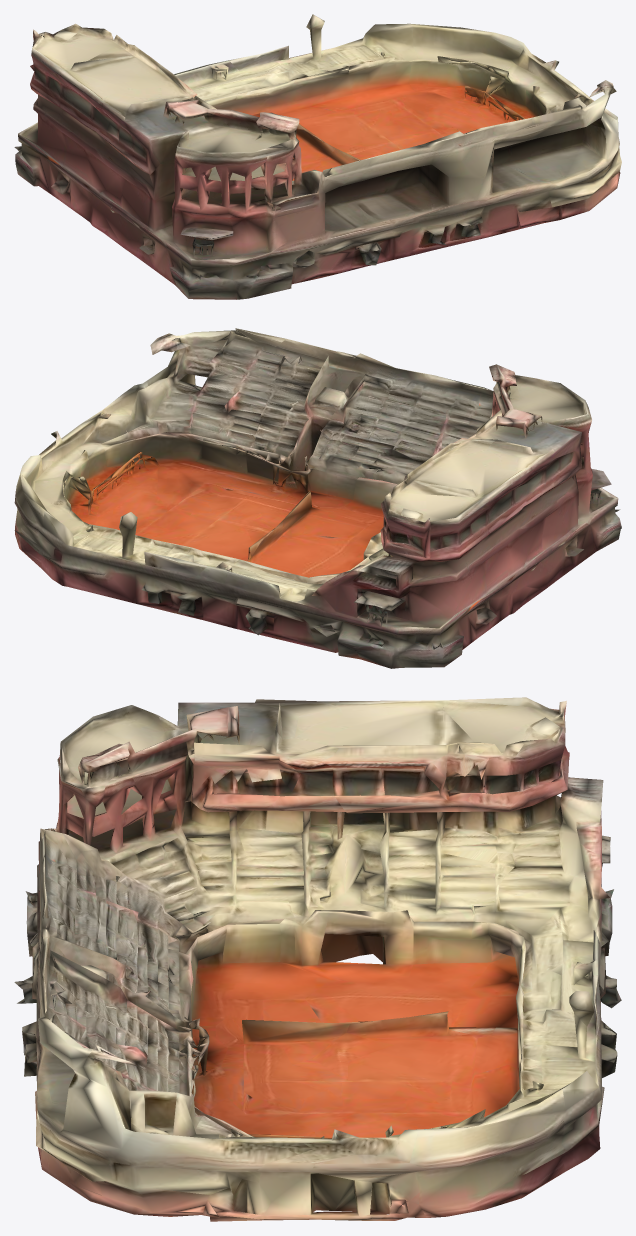
File: stadion_mc.glb
The picture shows the model from 3 angles, top to bottom: view 1: azimuth 30°, elevation 25°; view 2: azimuth 150°, elevation 25°; view 3: azimuth 270°, elevation 25°; orthographic projection. The views are drawn at different scales.
Visible parts, largest first — view 1: tripo_node_828d1bdc-1c1c-42e5-92ac-96555dc80fae; view 2: tripo_node_828d1bdc-1c1c-42e5-92ac-96555dc80fae; view 3: tripo_node_828d1bdc-1c1c-42e5-92ac-96555dc80fae.
Boxes of the visible parts, x1,y1,x2,y2 form: tripo_node_828d1bdc-1c1c-42e5-92ac-96555dc80fae: (14,14,621,299); tripo_node_828d1bdc-1c1c-42e5-92ac-96555dc80fae: (14,328,621,668); tripo_node_828d1bdc-1c1c-42e5-92ac-96555dc80fae: (14,697,621,1221).
Bounding box in the file's own units: 0.9992 × 0.3097 × 0.7708.
Materials: 1 (1 with a texture image).
